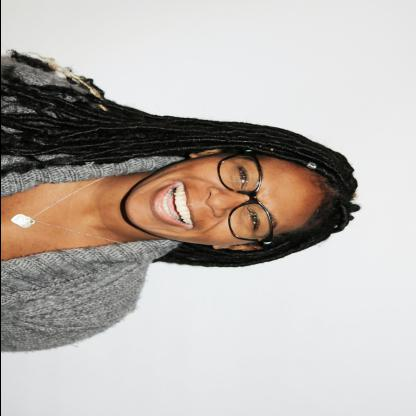Eye: (242, 208, 260, 232), (232, 165, 248, 189)
Mouth: (151, 180, 194, 228)
Nose: (204, 187, 245, 217)
